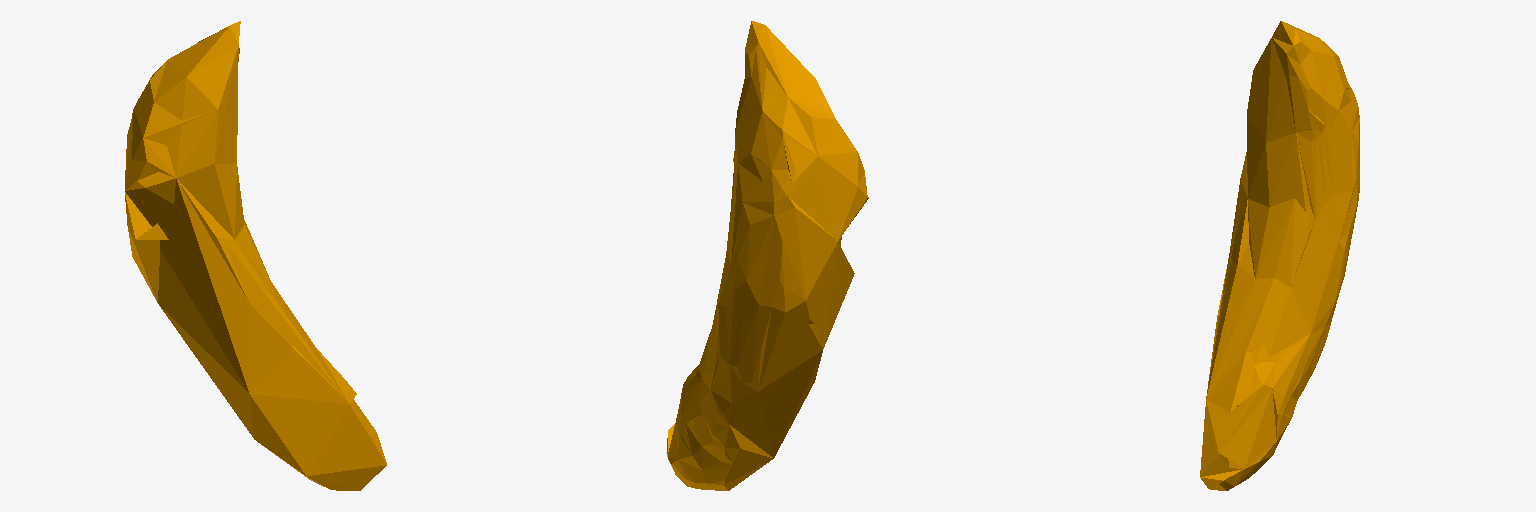
robot.urdf — banana:
<?xml version="1.0" ?>
<robot name="banana" xmlns:xacro="http://www.ros.org/wiki/xacro">
    <link name="banana">
        <inertial>
            <origin rpy="0 0 0.0" xyz="-0.1 -0.1 0.2"/>
            <mass value="0.2"/>
            <inertia ixx="0.05" ixy="0" ixz="0" iyy="0.06" iyz="0" izz="0.03"/>
        </inertial>
        <visual>
            <origin rpy="0 0 0.0" xyz="-0.1 -0.1 0.2"/>
            <geometry>
                <mesh filename="package://kuka_gripper_description/meshes/banana.obj"/>
            </geometry>
        </visual>
        <collision>
            <origin rpy="0 0 0.0" xyz="-0.1 -0.1 0.2"/>
            <geometry>
                <mesh filename="package://kuka_gripper_description/meshes/banana.obj"/>
            </geometry>
        </collision>
    </link>
</robot>

--- What the picture shows (computed from the rendered views, not written in the file) ---
The picture shows the robot from 3 angles, left to right: view 1: azimuth 30°, elevation 25°; view 2: azimuth 150°, elevation 25°; view 3: azimuth 270°, elevation 25°; orthographic projection.
Robot: banana — 1 links, 0 joints (none); root link banana; default pose: every joint at zero.
Links seen in each view (by area): view 1: banana; view 2: banana; view 3: banana.
Link boxes in pixels (<box>): banana: <box>125,21,386,490</box>; banana: <box>667,21,868,490</box>; banana: <box>1200,21,1359,490</box>.
Size in the robot's own frame: 0.0838 by 0.0599 by 0.1771 metres.
Meshes: 1 distinct files referenced, 1 mesh visuals loaded (1 OBJ).